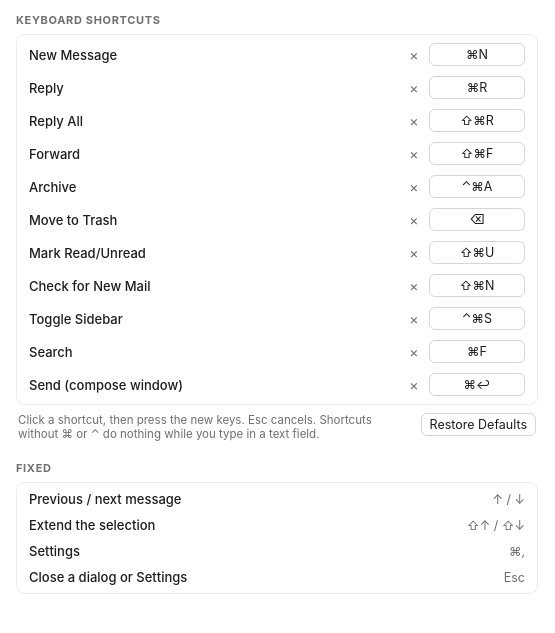
says which action lost the combination to the new one
Click the button "⌘R" at (477, 88), box [429,76,525,99]
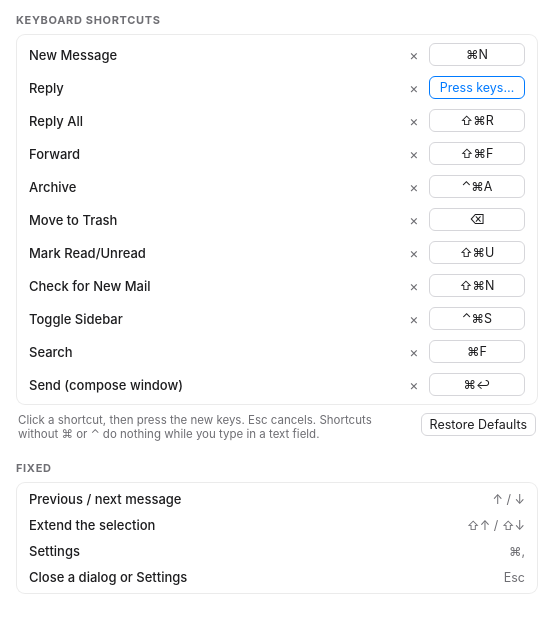
Press n
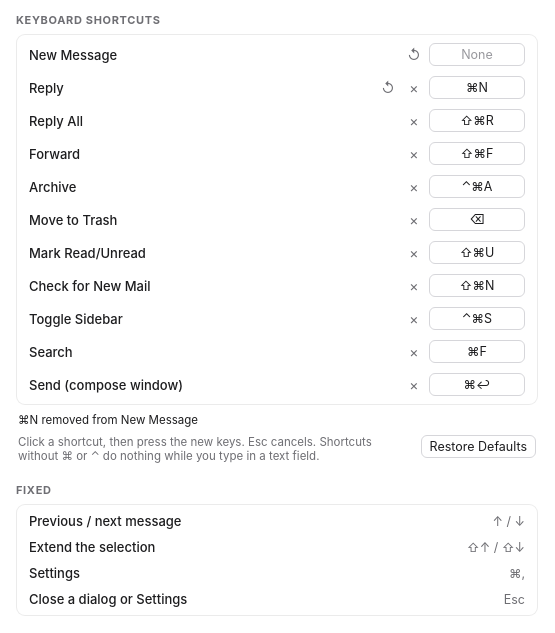
Now the text "⌘N removed from New Message" is shown, box [18,413,198,427]
